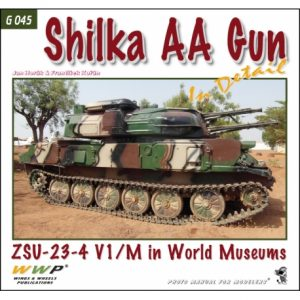Battle Tank: (19, 99, 280, 224)
